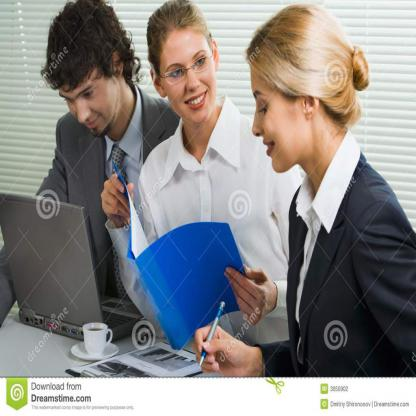face: (251, 59, 304, 175), (163, 39, 215, 125), (61, 75, 117, 139)
